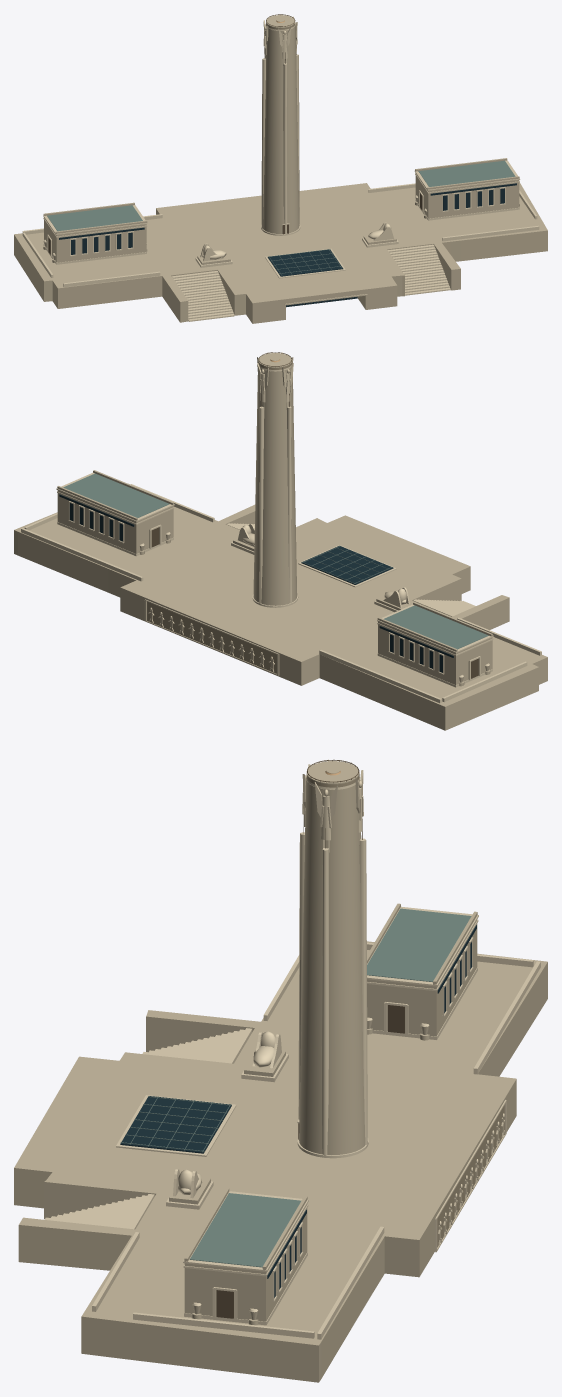
The model's file is liberty-memorial-far.glb.
3 views of the same model, one above another, from view 1: azimuth 30°, elevation 25°; view 2: azimuth 150°, elevation 25°; view 3: azimuth 270°, elevation 25° (orthographic). The views are drawn at different scales.
Visible parts, largest first — view 1: liberty-memorial-0-stone, liberty-memorial-0-trim, liberty-memorial-0-roof, liberty-memorial-0-glass; view 2: liberty-memorial-0-stone, liberty-memorial-0-trim, liberty-memorial-0-roof, liberty-memorial-0-glass, liberty-memorial-0-joint; view 3: liberty-memorial-0-stone, liberty-memorial-0-trim, liberty-memorial-0-roof, liberty-memorial-0-glass, liberty-memorial-0-joint, liberty-memorial-0-bronze.
Part boxes in pixels (x1,y1,x2,y2): liberty-memorial-0-stone: [14, 15, 547, 323]; liberty-memorial-0-trim: [22, 16, 539, 321]; liberty-memorial-0-roof: [47, 160, 515, 275]; liberty-memorial-0-glass: [59, 183, 516, 307]; liberty-memorial-0-stone: [14, 353, 547, 730]; liberty-memorial-0-trim: [21, 352, 541, 703]; liberty-memorial-0-roof: [63, 473, 488, 649]; liberty-memorial-0-glass: [59, 494, 453, 672]; liberty-memorial-0-joint: [147, 362, 292, 673]; liberty-memorial-0-stone: [14, 761, 547, 1382]; liberty-memorial-0-trim: [44, 759, 540, 1339]; liberty-memorial-0-roof: [120, 908, 471, 1267]; liberty-memorial-0-glass: [120, 925, 476, 1297]; liberty-memorial-0-joint: [306, 774, 504, 1247]; liberty-memorial-0-bronze: [216, 759, 404, 1318].
Bounding box in the file's own units: 155 × 72.74 × 85.86.
